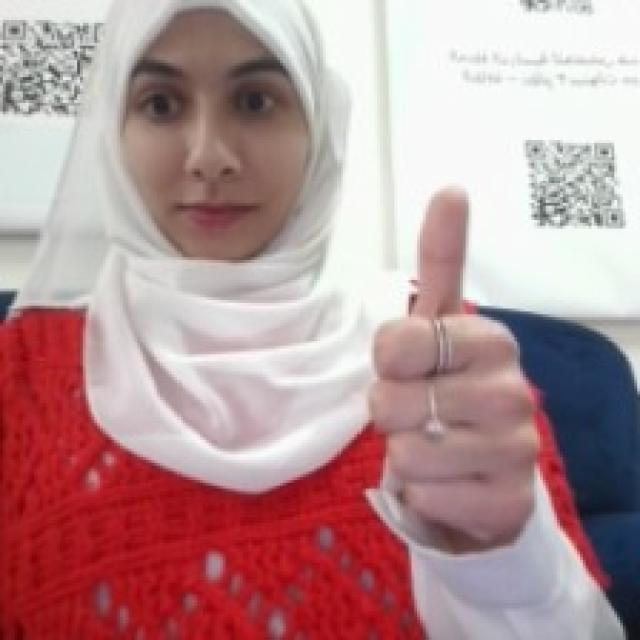fine: (360, 175, 546, 540)
